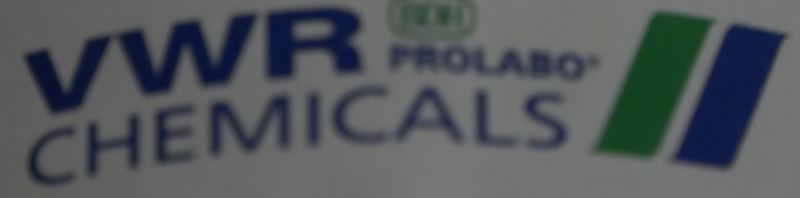VWR: (15, 3, 789, 190)
